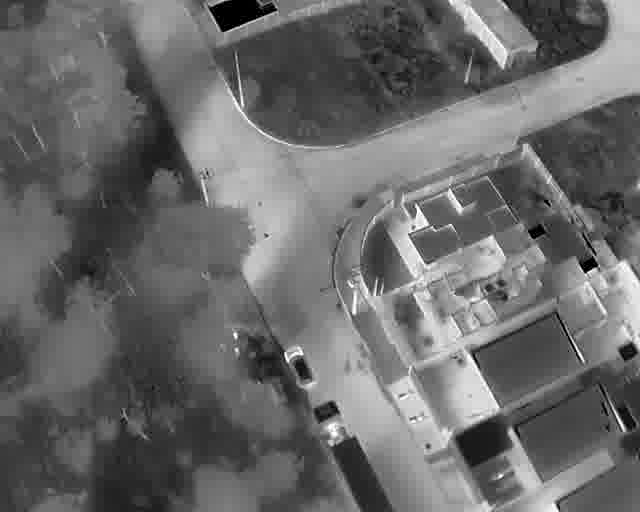car: (283, 344, 316, 388)
truck: (312, 399, 397, 512)
